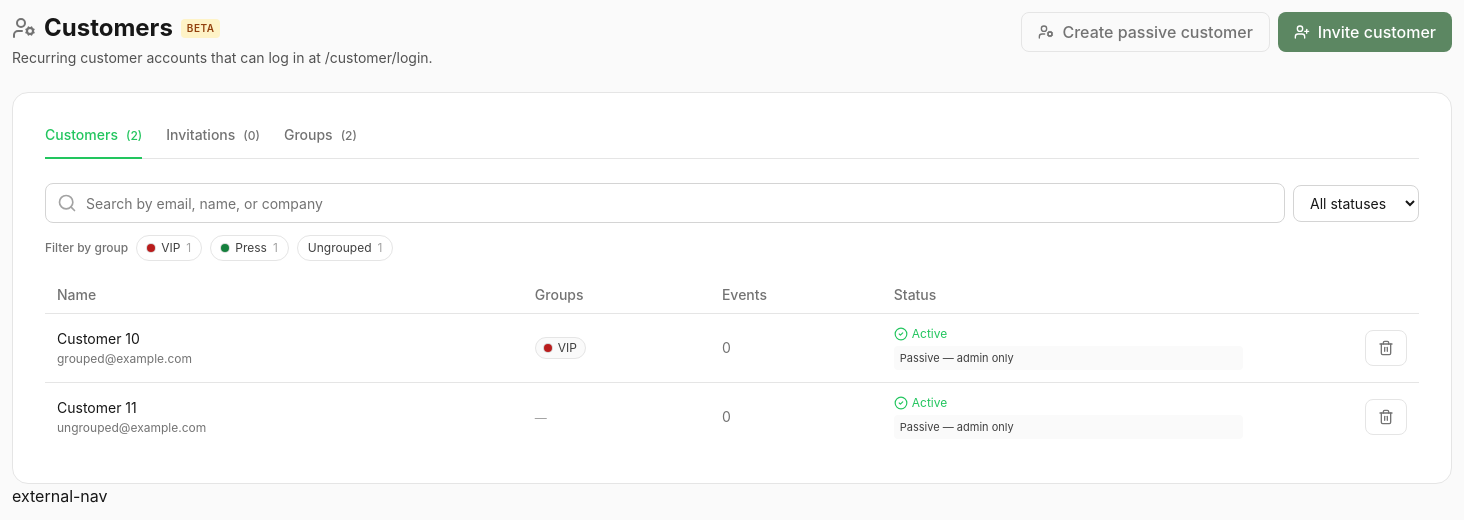
the catalogue tab › is read-only without customers.groups.manage: the catalogue, and no control that would only answer 403
Expected: the text "grouped@example.com" is shown, [57,351,192,366]
Click the button "Groups(2)".
click(320, 142)  # box [284,125,357,159]
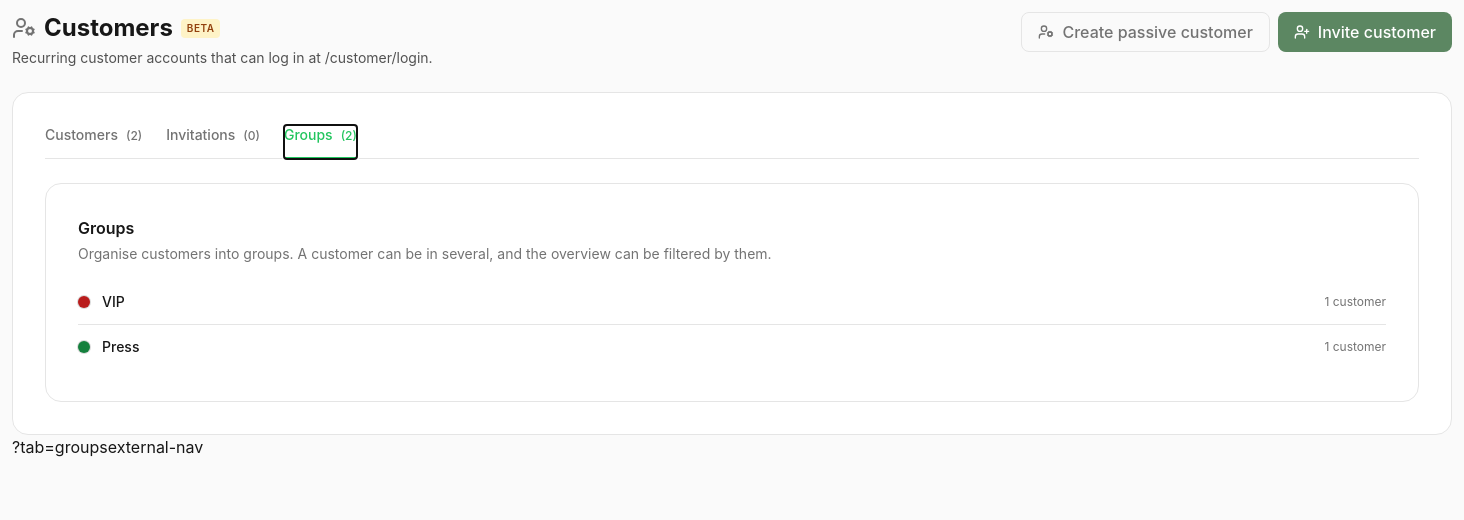
Expected: the text "1 customer" is shown 2 times, [1324,294,1386,310]; [1324,339,1386,355]
Expected: the button "New group" is gone
